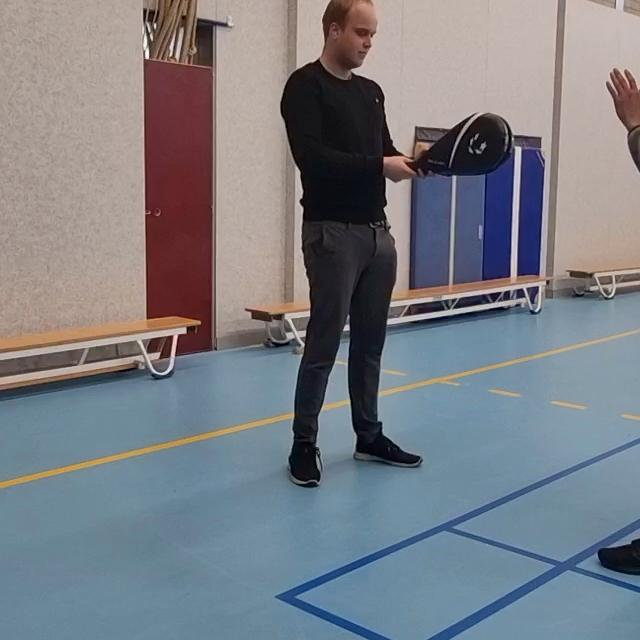paddle: (394, 110, 516, 172)
